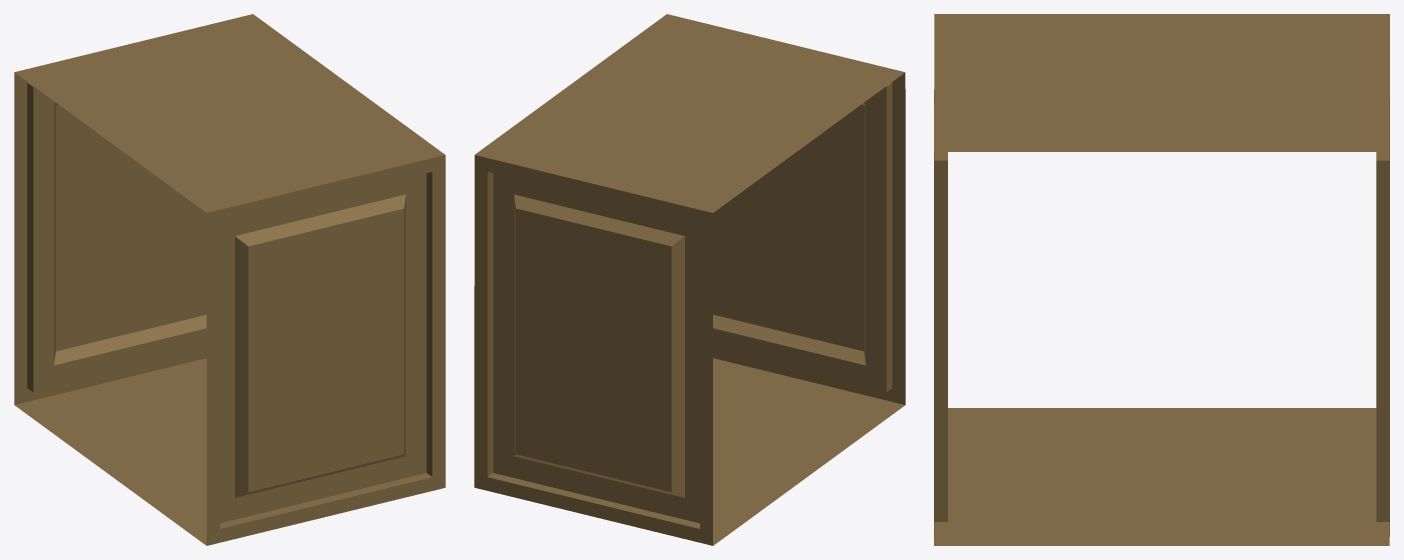
File: Itr_Diningtable_Body_Middle_01.FBX
3 renders of one model, left to right at view 1: azimuth 30°, elevation 25°; view 2: azimuth 150°, elevation 25°; view 3: azimuth 270°, elevation 25°, orthographic. The views are drawn at different scales.
Visible parts, largest first — view 1: Itr_Diningtable_Body_Middle_01; view 2: Itr_Diningtable_Body_Middle_01; view 3: Itr_Diningtable_Body_Middle_01.
Part boxes in pixels (x1,y1,x2,y2): Itr_Diningtable_Body_Middle_01: (14,14,445,545); Itr_Diningtable_Body_Middle_01: (474,14,905,545); Itr_Diningtable_Body_Middle_01: (934,14,1389,545).
Bounding box in the file's own units: 24.71 × 32.91 × 34.5.
